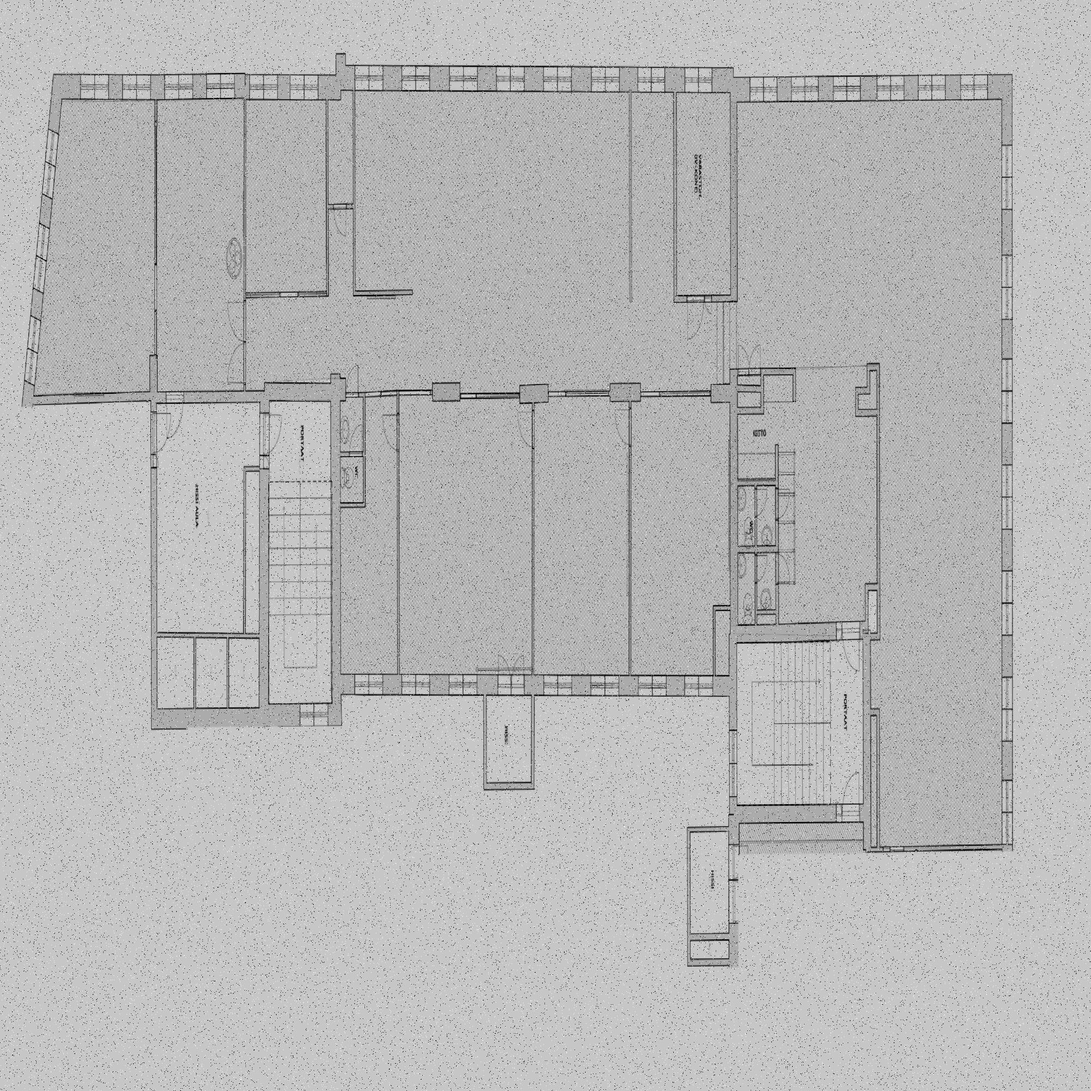wall: (22, 74, 62, 402), (336, 67, 733, 92), (1002, 77, 1013, 852), (53, 74, 341, 99), (730, 77, 1013, 102), (531, 676, 737, 696), (151, 705, 340, 725), (259, 402, 269, 725), (332, 676, 487, 696), (332, 374, 341, 676), (729, 804, 871, 823), (737, 624, 880, 642), (730, 370, 738, 634), (151, 392, 157, 725), (265, 383, 340, 403), (730, 102, 737, 303), (863, 642, 871, 804), (22, 392, 157, 401), (157, 392, 264, 403), (729, 676, 737, 823), (479, 783, 539, 802), (478, 676, 487, 802), (863, 845, 1013, 852), (531, 676, 539, 802), (865, 583, 880, 642), (487, 676, 531, 696), (531, 384, 534, 676), (154, 74, 157, 356), (674, 67, 677, 303), (877, 364, 880, 583), (244, 74, 246, 402), (629, 92, 632, 303), (855, 388, 877, 416), (397, 392, 399, 695), (775, 444, 778, 642), (151, 634, 269, 639), (610, 384, 641, 403), (629, 384, 631, 676), (520, 384, 549, 403), (432, 384, 460, 403), (867, 364, 877, 416), (244, 292, 329, 298), (353, 67, 355, 296), (326, 74, 328, 298), (674, 296, 737, 303), (346, 392, 432, 397), (877, 709, 880, 852), (641, 391, 711, 397), (332, 676, 340, 725), (730, 370, 795, 376), (863, 804, 871, 852), (548, 391, 610, 397), (711, 384, 730, 403), (460, 393, 520, 399), (243, 469, 245, 639), (729, 634, 737, 676), (730, 546, 778, 553), (730, 479, 778, 486), (755, 479, 757, 642), (353, 291, 413, 296), (150, 356, 157, 392), (730, 407, 764, 414), (757, 610, 775, 623), (363, 392, 365, 508), (730, 386, 764, 392), (194, 634, 196, 725), (227, 634, 229, 725), (336, 67, 341, 99), (326, 204, 355, 209), (713, 606, 715, 676), (341, 378, 346, 403), (340, 503, 365, 508), (730, 67, 733, 102), (340, 452, 365, 456), (793, 370, 796, 402), (867, 364, 880, 371), (761, 370, 763, 413), (713, 606, 730, 610), (243, 469, 259, 473), (871, 709, 880, 716)
